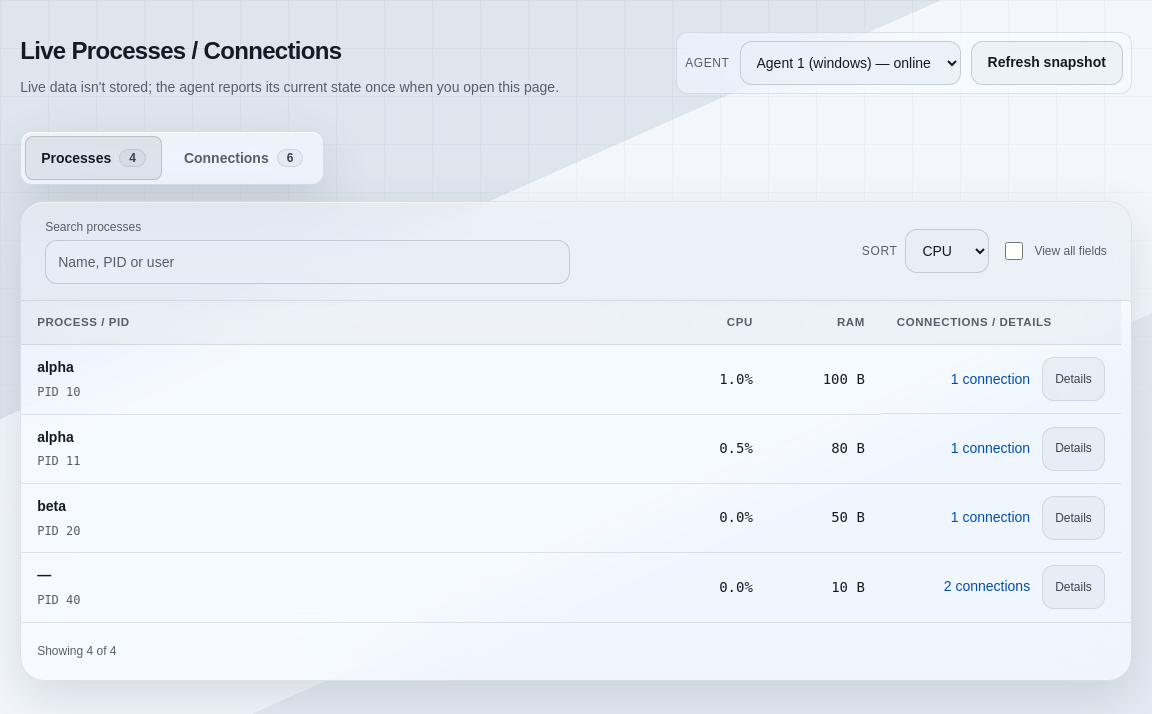
Processes network-connection filtering › keeps secondary fields in a full-width expandable summary row
Expected: the table is shown, [21,302,1121,622]
Expected: the cell with class "identity-cell" shows "PID 10", [37,385,81,399]
Click the button with class "detail-toggle" in the row of "PID 10".
click(1074, 380)  # box [1042,358,1105,402]
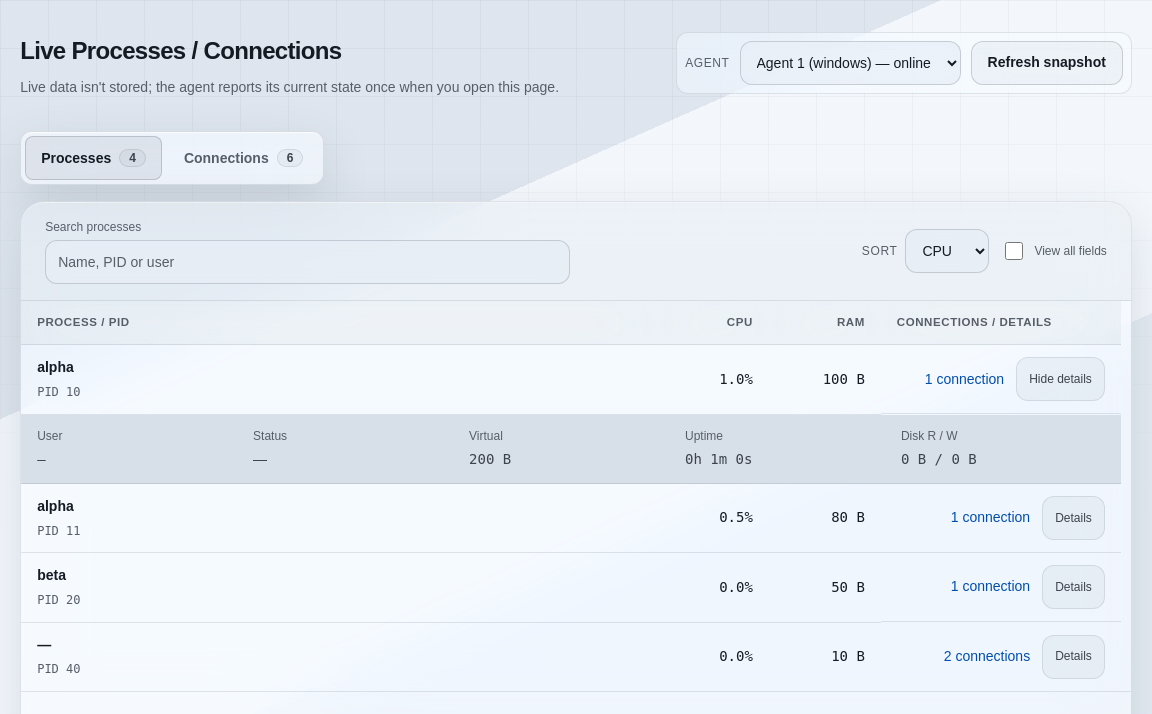
Expected: the row with class "detail-row" shows "Virtual", [469,429,503,443]
Expected: the row with class "detail-row" shows "Uptime", [685,429,723,443]
Expected: the row with class "detail-row" shows "Disk R / W", [901,429,958,443]
